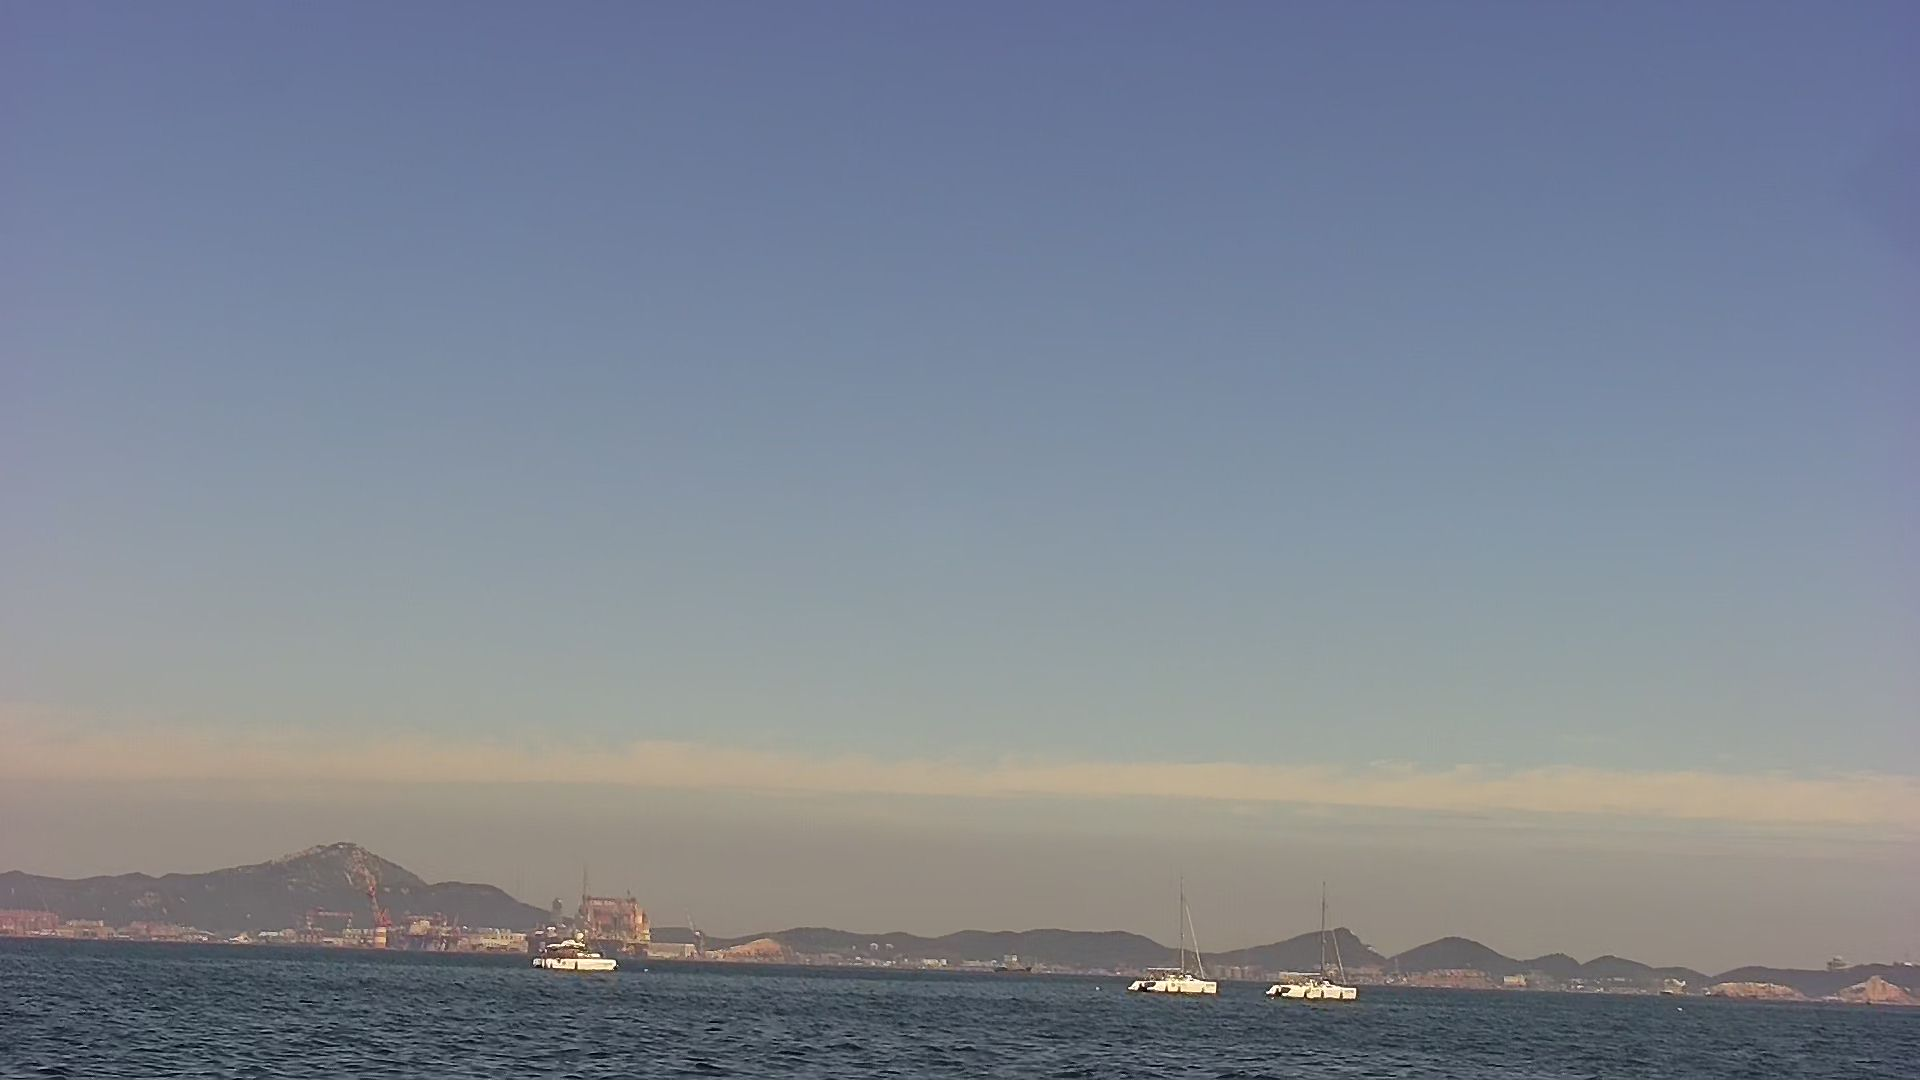boat: (1112, 858, 1236, 1004), (1255, 872, 1385, 1010), (530, 880, 620, 977), (982, 955, 1048, 980)
